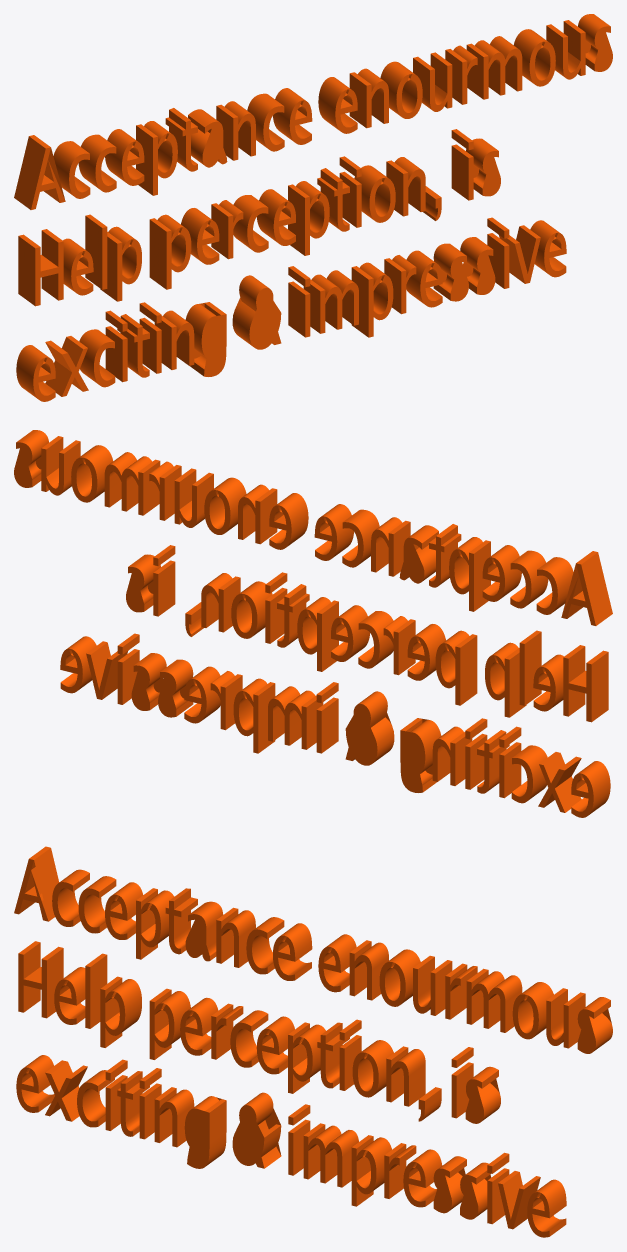
The picture shows the model from 3 angles, top to bottom: view 1: azimuth 30°, elevation 25°; view 2: azimuth 150°, elevation 25°; view 3: azimuth 330°, elevation 25°; orthographic projection.
Visible parts, largest first — view 1: typeMesh1; view 2: typeMesh1; view 3: typeMesh1.
Part boxes in pixels (x1,y1,x2,y2): typeMesh1: (14,14,612,401); typeMesh1: (14,430,612,817); typeMesh1: (14,846,612,1237).
Size of the model in its own units: 6.36 by 2.81 by 0.3207.
